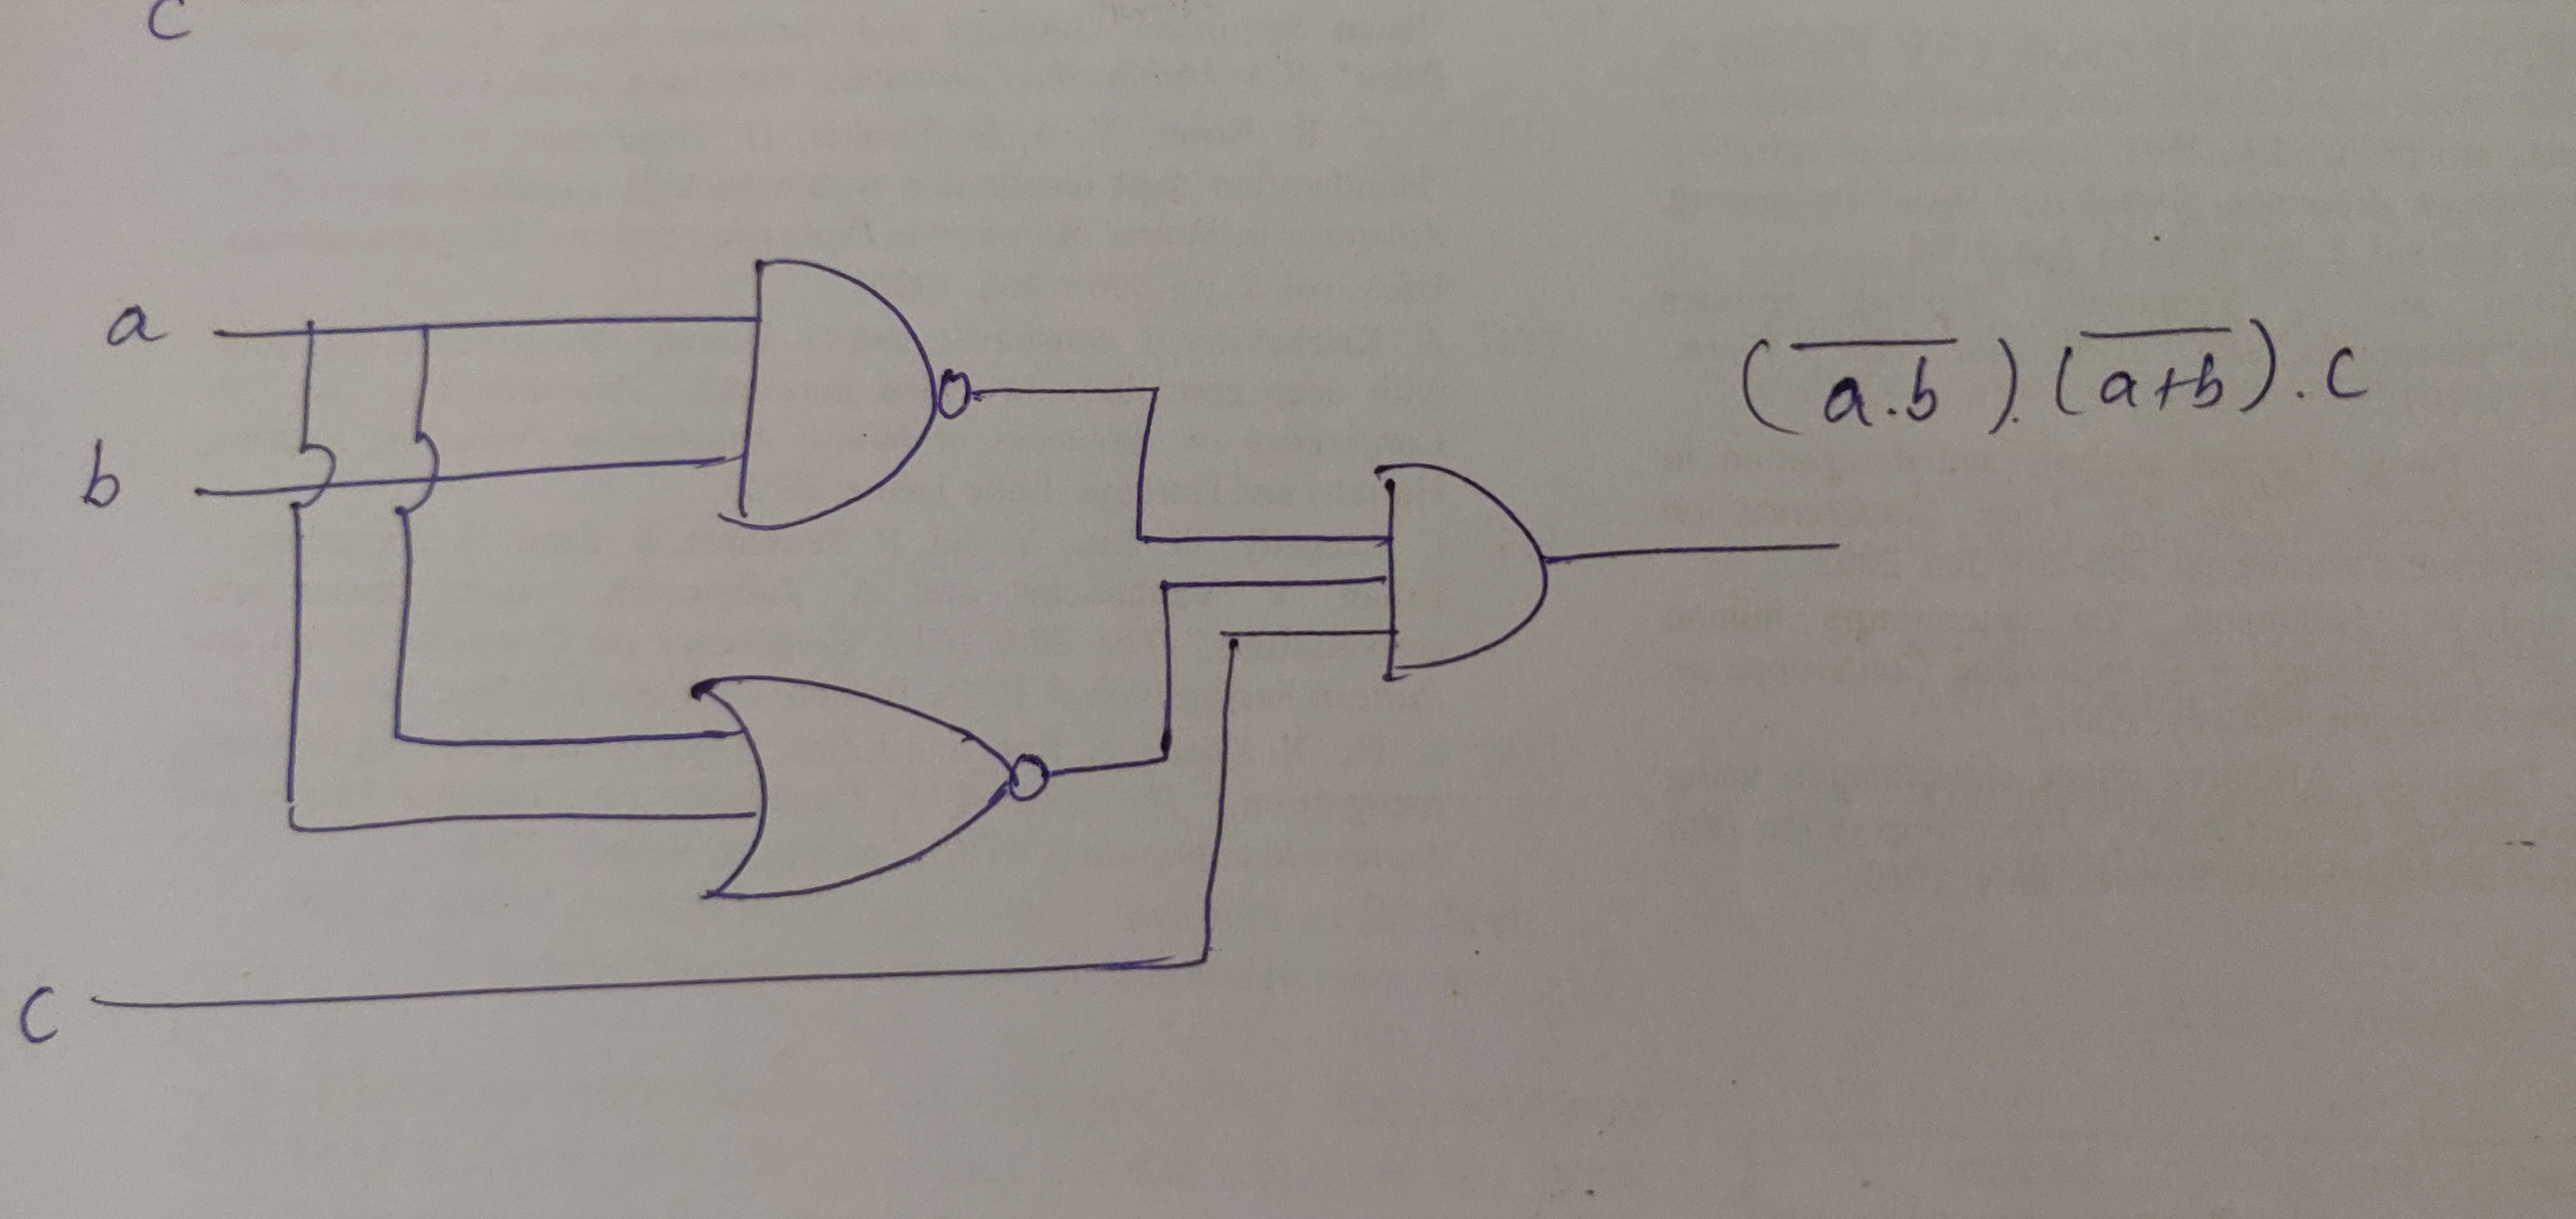and: (1298, 416, 1640, 734)
nand: (646, 177, 1058, 590)
nor: (636, 626, 1122, 943)
